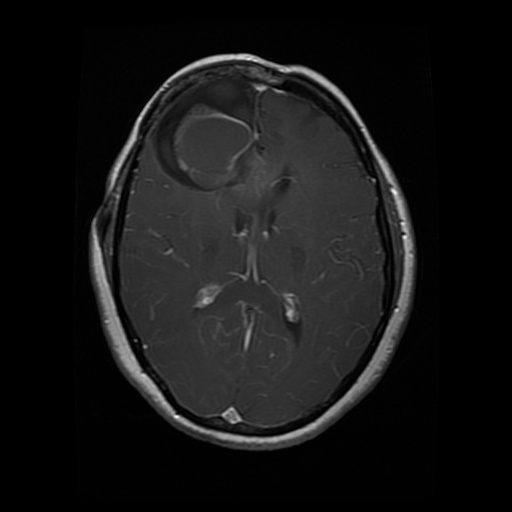glioma: (150, 78, 283, 192)
